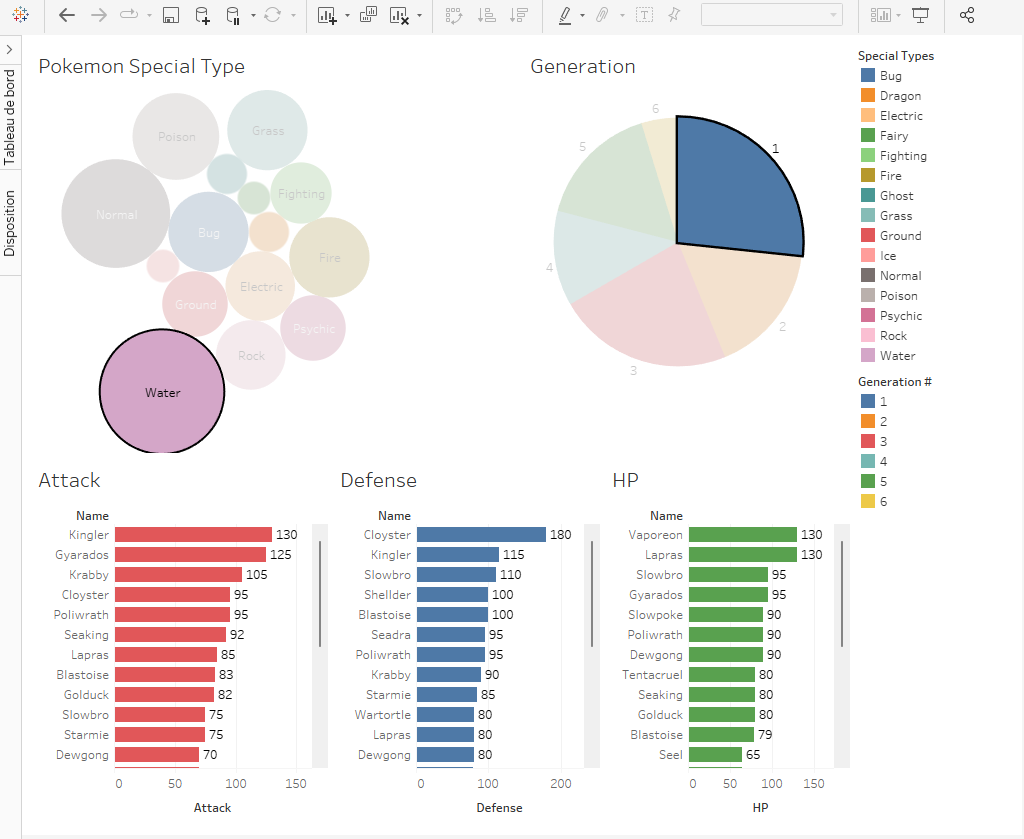

Layout of this report page (visuals, bound fields, positions):
{"tool":"tableau","page":{"name":"Dashboard 1","canvas":[1000,800],"ordinal":0},"visuals":[{"type":"worksheet","title":"Special","mark":"Circle","box":[8,8,492,414]},{"type":"worksheet","title":"Generation","mark":"Pie","box":[500,8,332,414]},{"type":"legend","title":"Special","param":"[federated.1n69bmu0i95qzx1b2901k1pttq0b].[none:Type_1:nk]","box":[832,8,160,386]},{"type":"legend","title":"Generation","param":"[federated.1n69bmu0i95qzx1b2901k1pttq0b].[Generation (group)]","box":[832,394,160,146]},{"type":"worksheet","title":"Attack","mark":"Automatic","rows":["Name"],"cols":["Attack"],"box":[8,422,302,370]},{"type":"worksheet","title":"Defense","mark":"Automatic","rows":["Name"],"cols":["Defense"],"box":[310,422,272,370]},{"type":"worksheet","title":"HP","mark":"Automatic","rows":["Name"],"cols":["HP"],"box":[582,422,250,370]}]}

Visuals, with their boxes on the page's 1000x800 design canvas (x1, y1, x2, y2). These are canvas units, not pixel positions in the 1024x839 screenshot, which may show the page scaled, cropped or inside an application window:
"Special" worksheet (Circle marks): {"x1": 8, "y1": 8, "x2": 500, "y2": 422}
"Generation" worksheet (Pie marks): {"x1": 500, "y1": 8, "x2": 832, "y2": 422}
"Special" legend: {"x1": 832, "y1": 8, "x2": 992, "y2": 394}
"Generation" legend: {"x1": 832, "y1": 394, "x2": 992, "y2": 540}
"Attack" worksheet: {"x1": 8, "y1": 422, "x2": 310, "y2": 792}
"Defense" worksheet: {"x1": 310, "y1": 422, "x2": 582, "y2": 792}
"HP" worksheet: {"x1": 582, "y1": 422, "x2": 832, "y2": 792}
